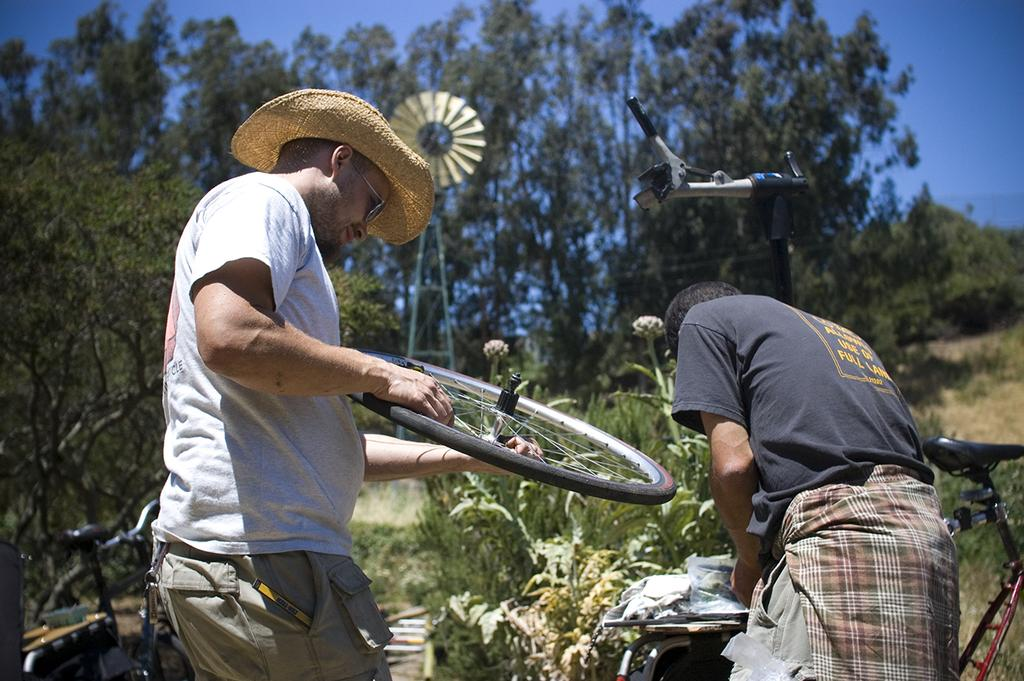Hat: (232, 86, 438, 244)
